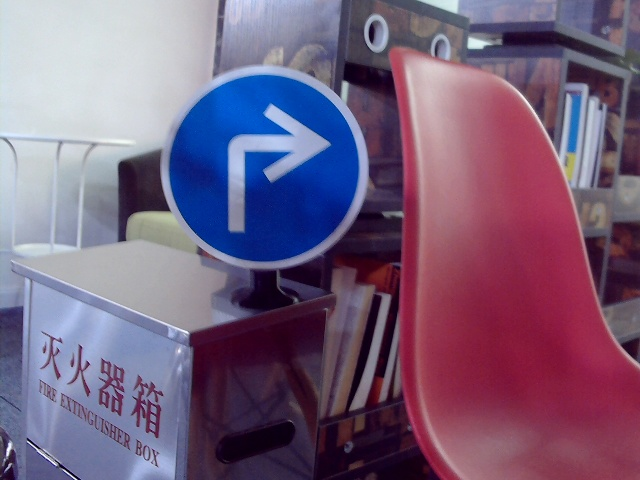turn_right: (214, 96, 333, 237)
